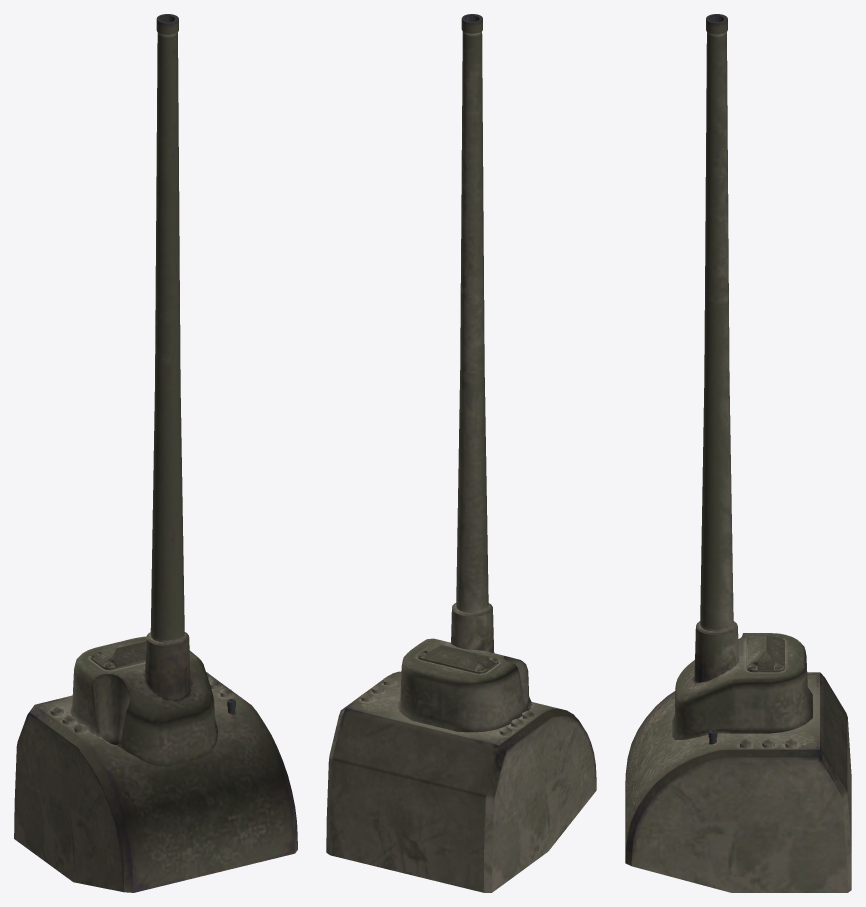
The model's file is Gun_06.glb.
3 renders of one model, left to right at view 1: azimuth 30°, elevation 25°; view 2: azimuth 150°, elevation 25°; view 3: azimuth 270°, elevation 25°, orthographic. The views are drawn at different scales.
Visible parts, largest first — view 1: set_0_group_0; view 2: set_0_group_0; view 3: set_0_group_0.
Boxes of the visible parts, x1,y1,x2,y2 form: set_0_group_0: (14,14,297,892); set_0_group_0: (326,14,596,892); set_0_group_0: (625,14,851,892).
Size of the model in its own units: 0.7358 by 3.43 by 0.8446.
Materials: 1 (1 with a texture image).
